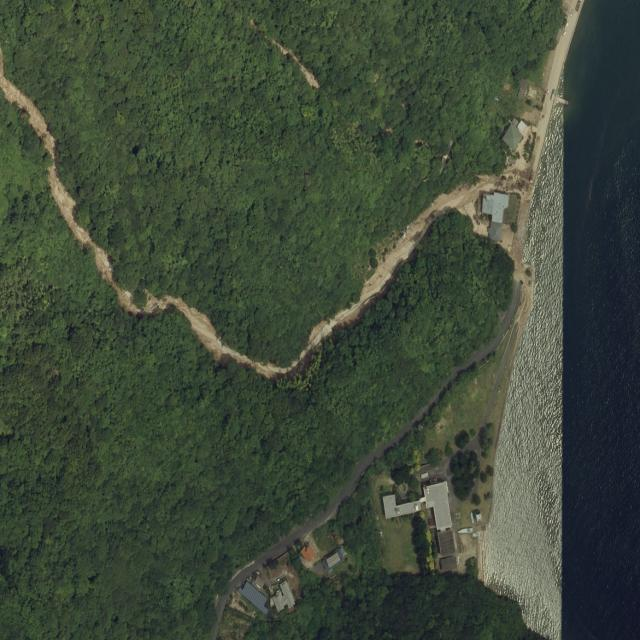landslide: (0, 48, 470, 380), (0, 45, 212, 350)
